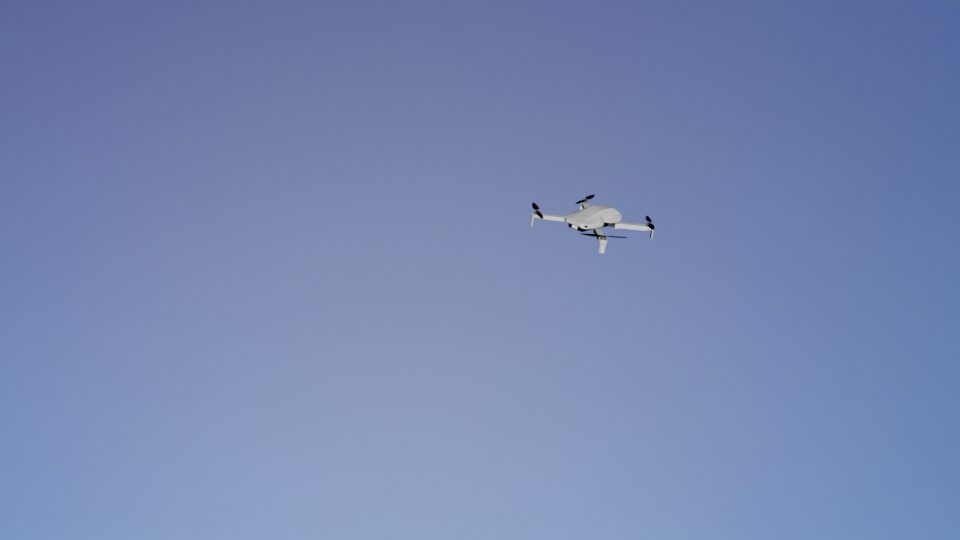drone: (526, 194, 658, 257)
